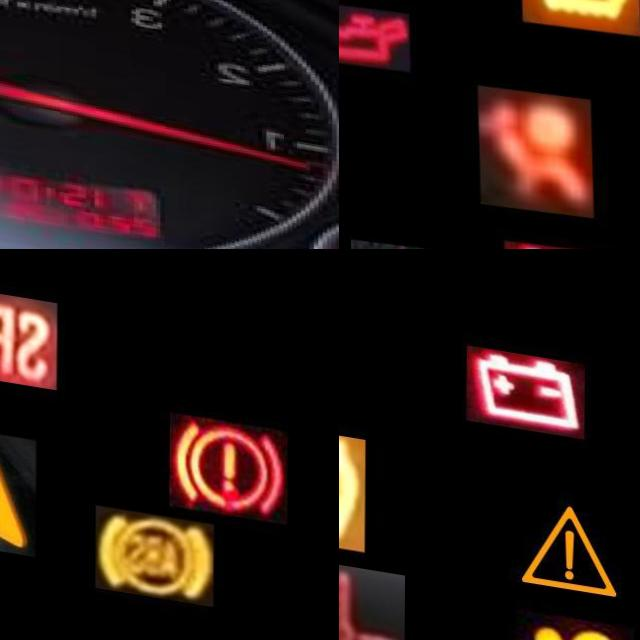Central Warning lamp: (511, 464, 629, 597), (0, 414, 36, 547)
Engine cooling system: (339, 547, 405, 640)
